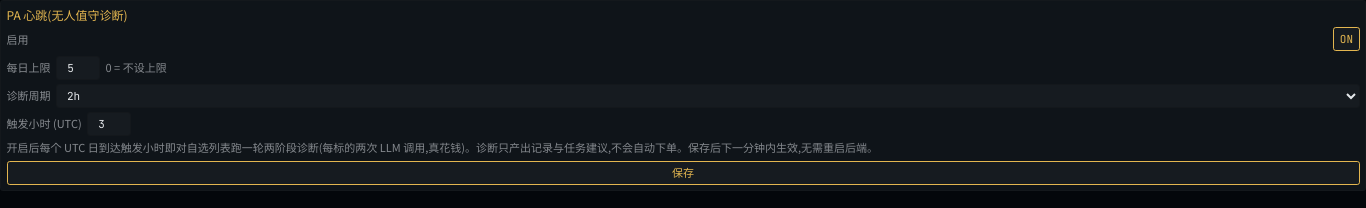
Scenario: PaHeartbeatPanel › saving while off says it stopped
What coordinates should you click on to do the following:
click the button "ON"
I would click on:
 (1346, 39)
Its box is [1333,27,1360,51].
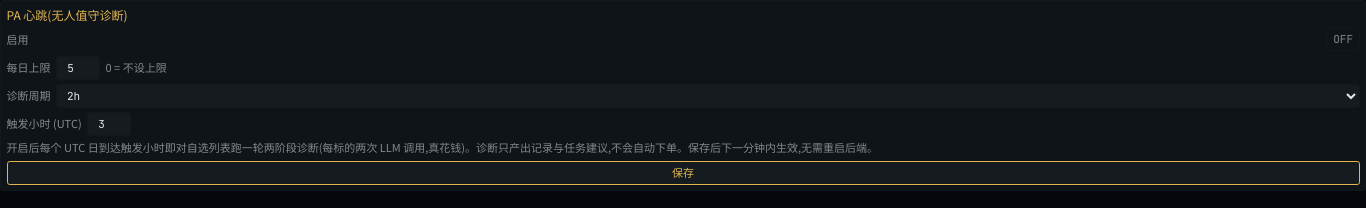
What coordinates should you click on to do the following:
click the button "保存"
I would click on:
 (683, 172)
Its box is [6,160,1360,184].
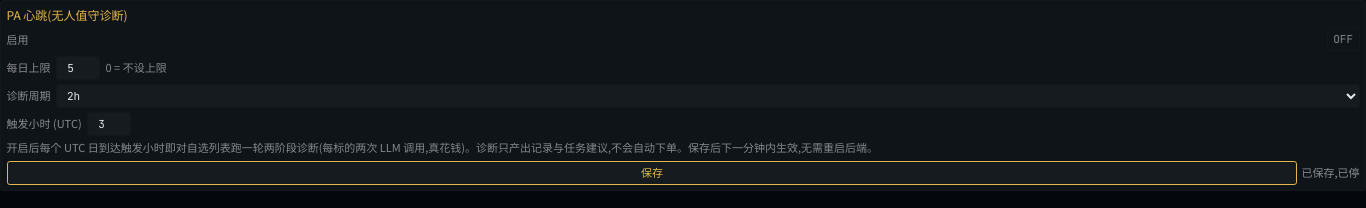
Expected: the text "已保存,已停" is shown, [1301,165,1360,180]
